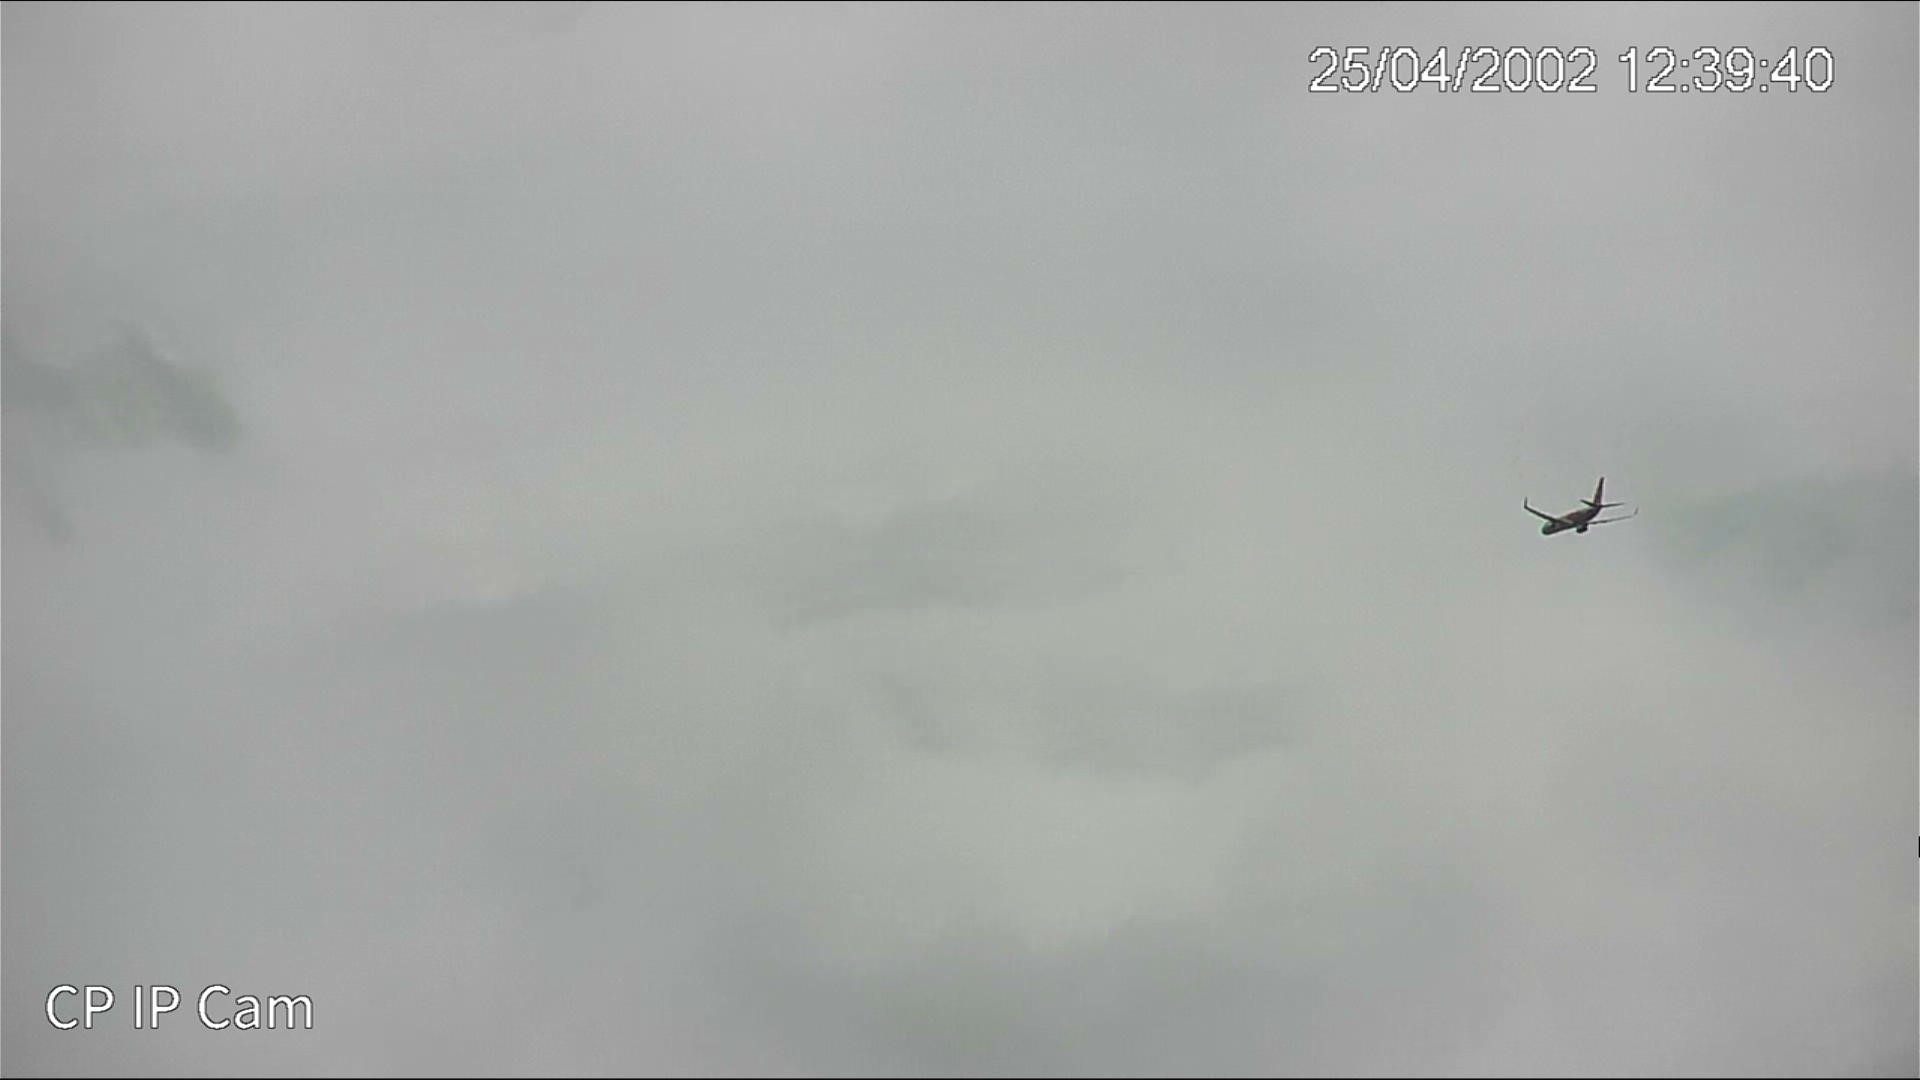SU_30: (1511, 473, 1636, 535)
